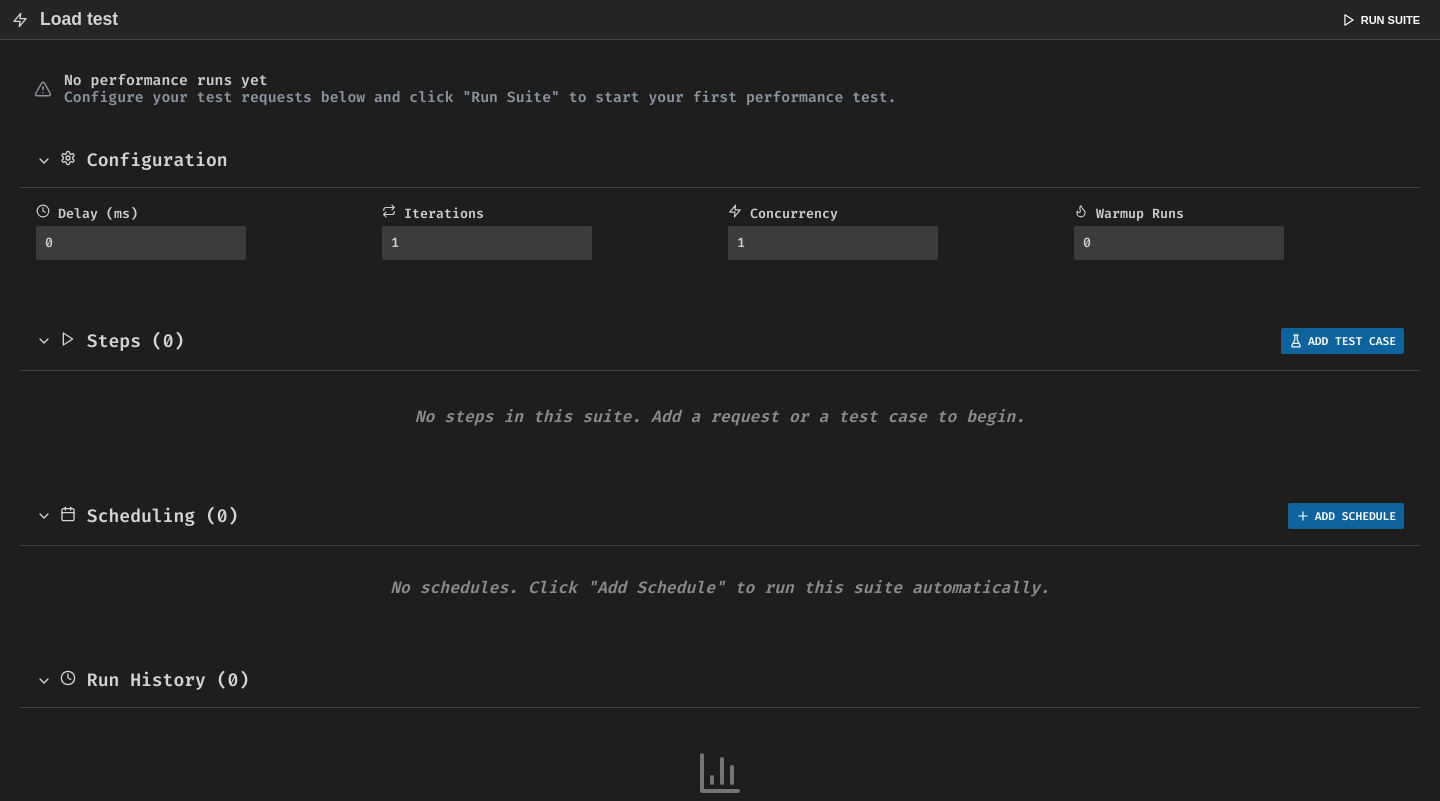
Test: PerformanceSuiteEditor test-case steps › shows the empty picker hint when no test cases exist
Step 1. Click the button "Add Test Case" → x=1342, y=341, box [1281,328,1404,354]
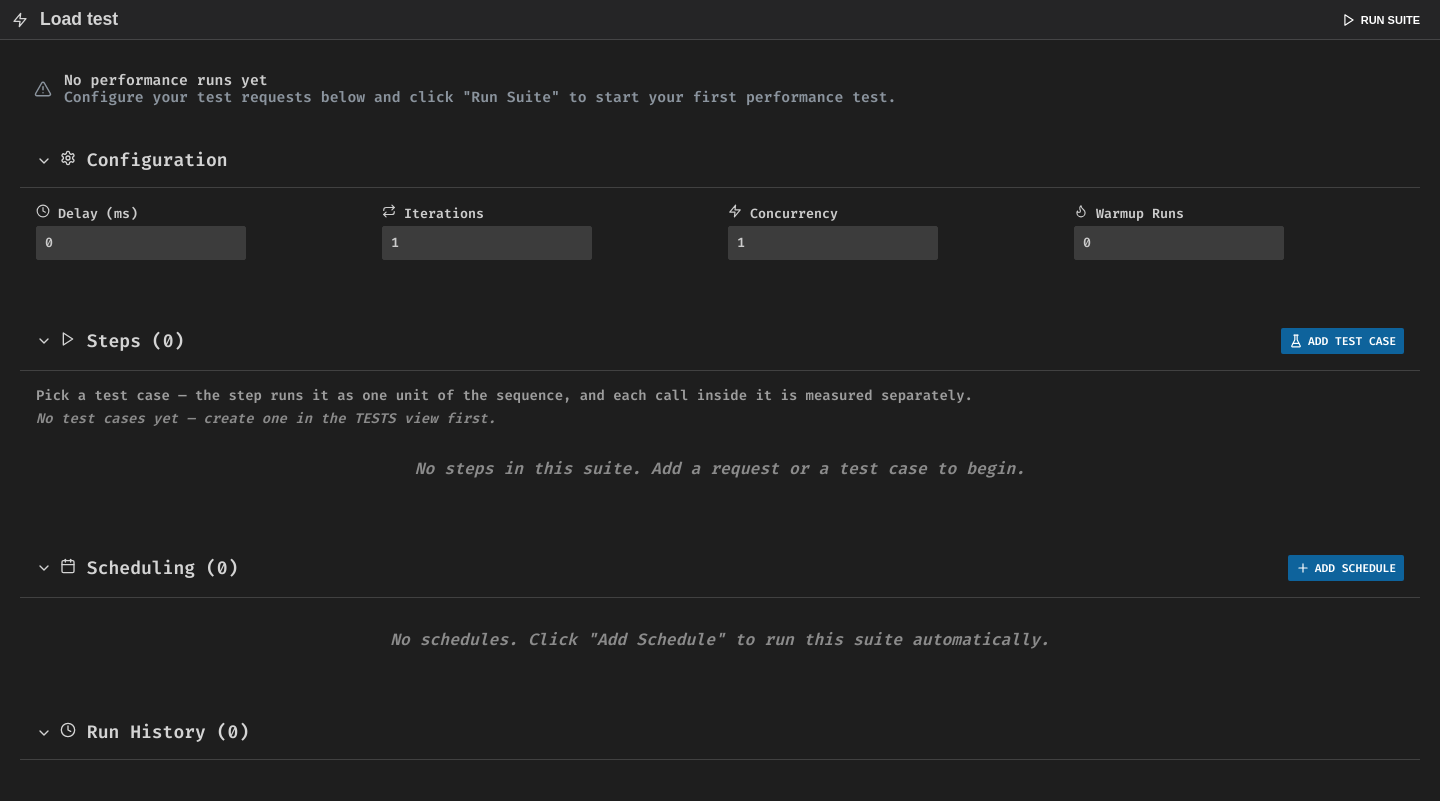
Result: the text "No test cases yet — create one in the TESTS view first." is shown at [36,410,496,427]
